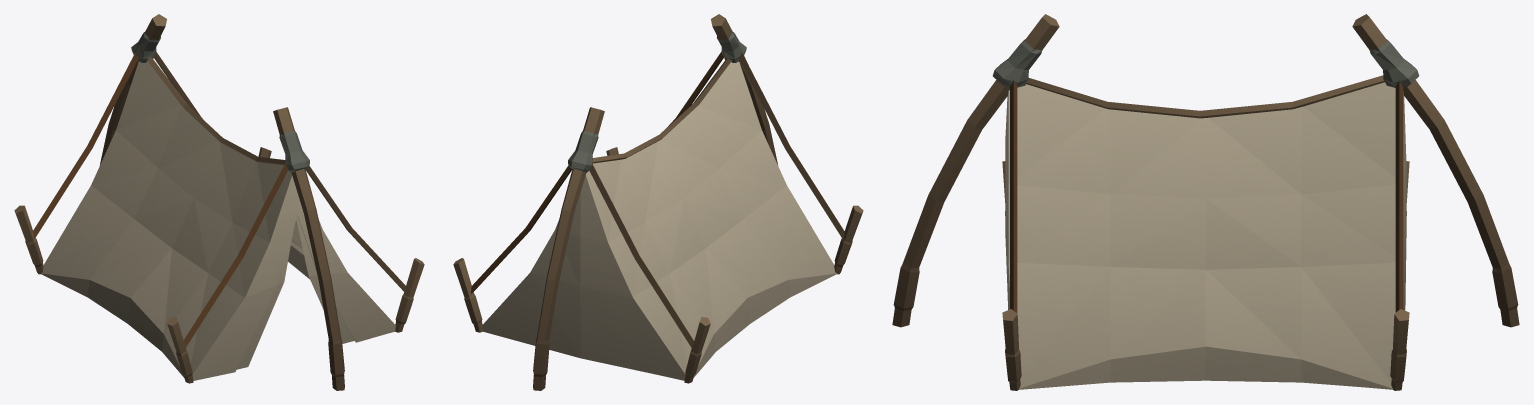
Rendered from ZLP_Build_F_2.FBX.
The picture shows the model from 3 angles, left to right: view 1: azimuth 30°, elevation 25°; view 2: azimuth 150°, elevation 25°; view 3: azimuth 270°, elevation 25°; orthographic projection. The views are drawn at different scales.
Visible parts, largest first — view 1: ZLP_Build_F_2; view 2: ZLP_Build_F_2; view 3: ZLP_Build_F_2.
Boxes of the visible parts, <box> form: ZLP_Build_F_2: <box>14,14,424,390</box>; ZLP_Build_F_2: <box>453,14,863,390</box>; ZLP_Build_F_2: <box>892,14,1519,390</box>.
Size of the model in its own units: 301 by 271 by 499.
